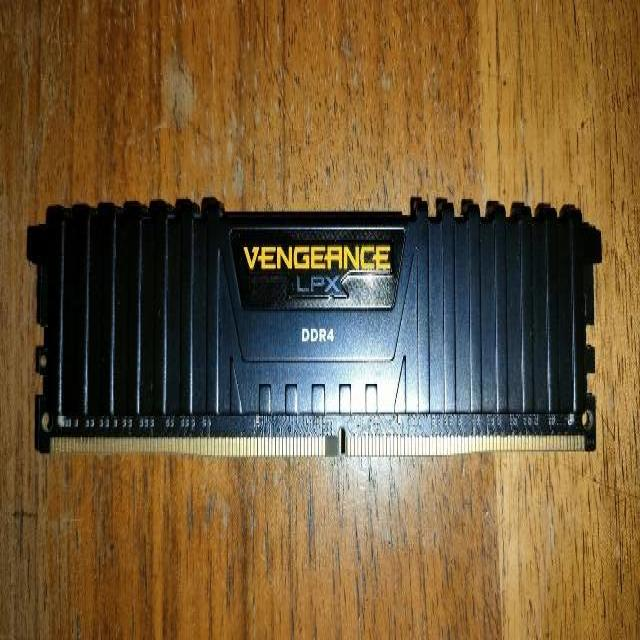RAM: (24, 192, 604, 462)
